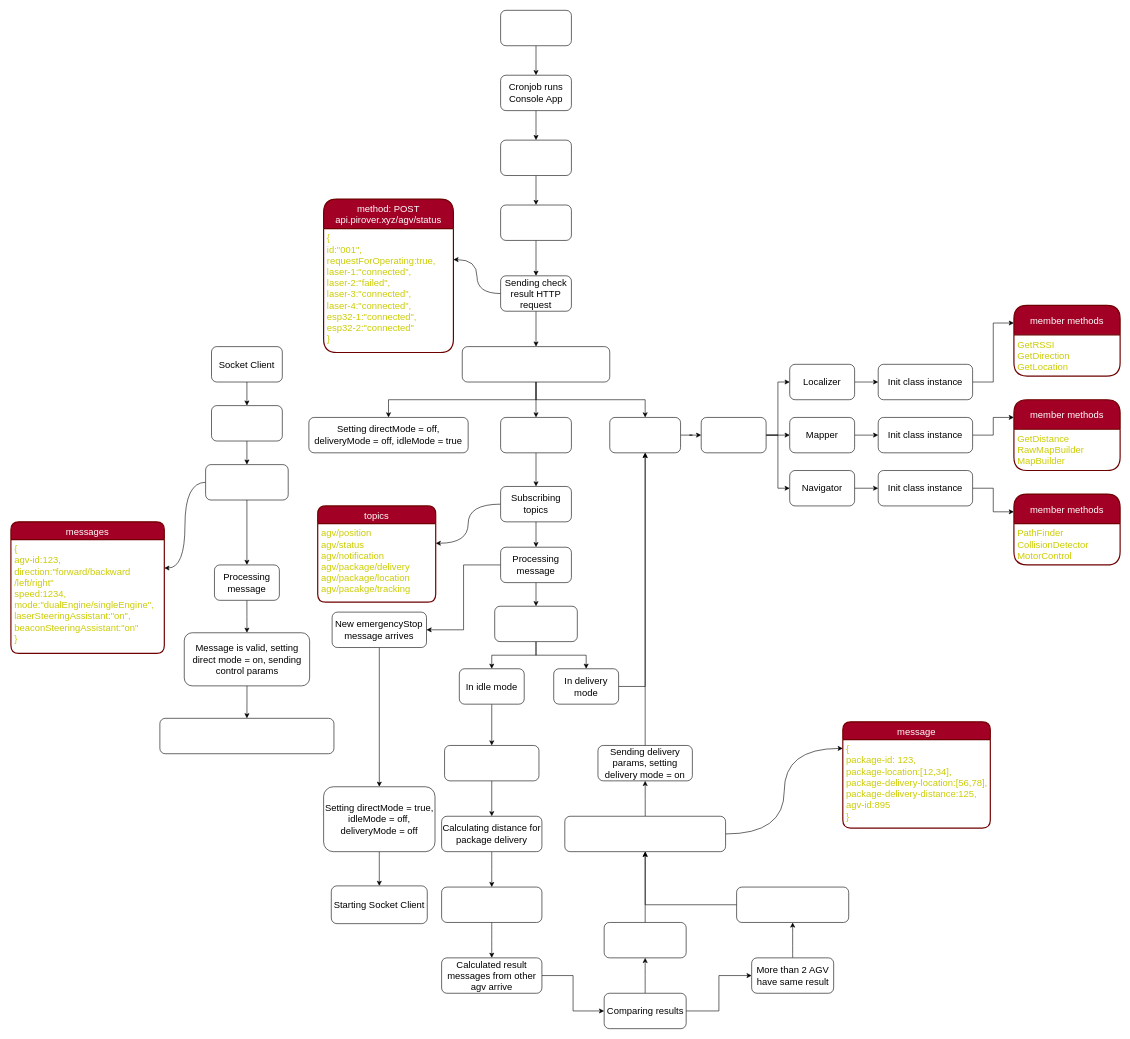
This 1130x1039 diagram has some shape labels left out. The shapes that lost their labels are listed below. From the top down, each one's centre as x and y in pixels, then its label:
point (535, 28): Power On
point (535, 158): Console App Started
point (535, 222): Checking sensors, ESP32 modules
point (536, 364): Status code = 200 Response = "accept to operate"
point (246, 423): Connecting successfully
point (535, 435): Starting MQTT Client
point (645, 435): Starting Guidance System
point (733, 435): Init components
point (246, 482): Listening for incoming messages
point (535, 624): No emergencyStop message arrives
point (246, 736): GuidanceSystem.PathPlanner.Control
point (491, 763): New package delivery request message arrives
point (645, 834): Sending Receive to delivery message to agv/package/notification topic
point (491, 904): Publish calculated result to topic agv/communication
point (792, 904): Self is bigger in number in int converted AGV name Example: 001, 002, 003
point (645, 940): Self is shortest
